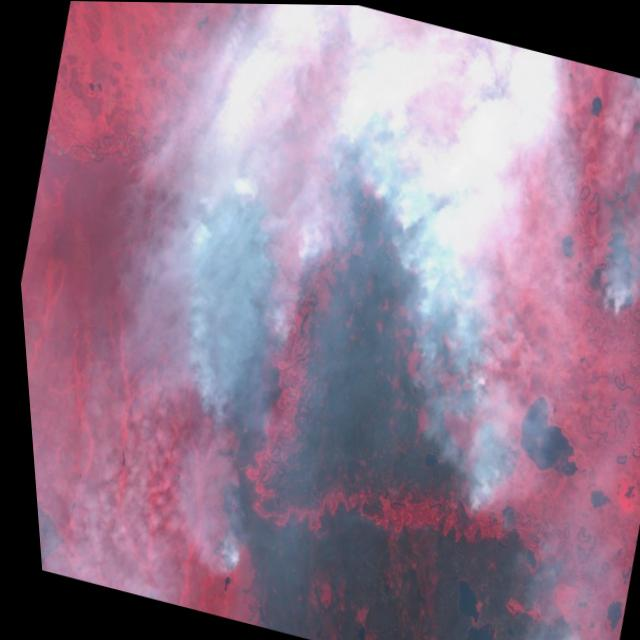fire: (78, 44, 640, 640)
